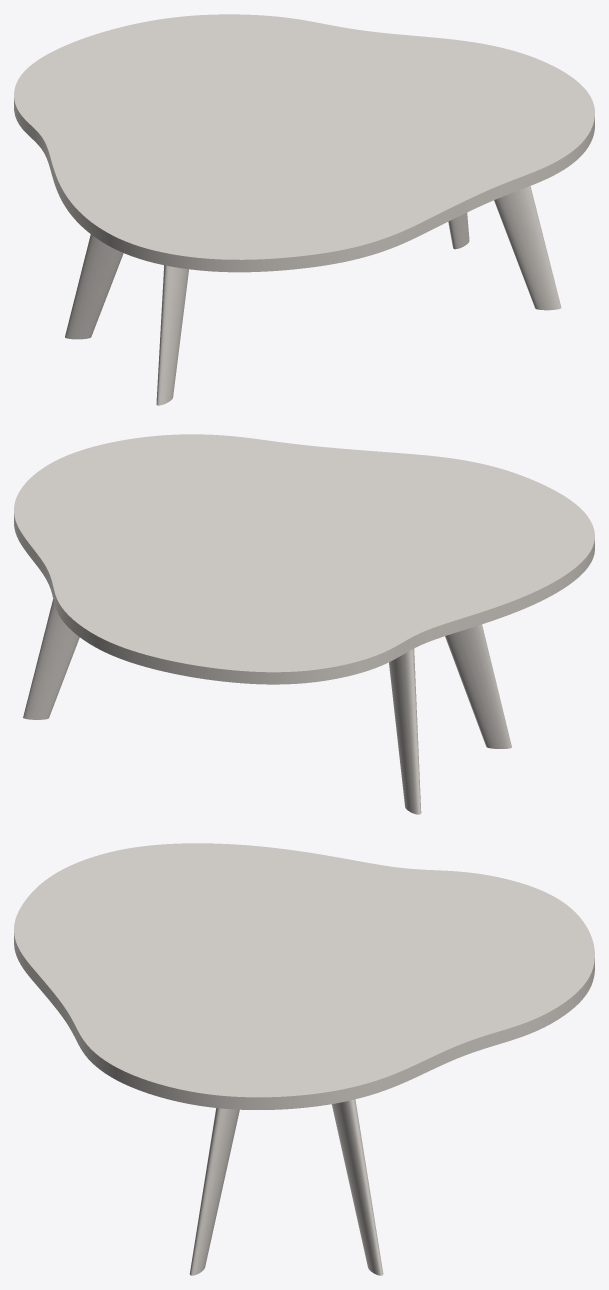
File: pearlwhite_topone_standard_ferdinantwalnut.glb
3 renders of one model, top to bottom at view 1: azimuth 30°, elevation 25°; view 2: azimuth 150°, elevation 25°; view 3: azimuth 270°, elevation 25°, orthographic. The views are drawn at different scales.
Visible parts, largest first — view 1: standard_topone, ferdinandwalnut; view 2: standard_topone, ferdinandwalnut; view 3: standard_topone, ferdinandwalnut.
Boxes of the visible parts, left/top/right/bottom form: standard_topone: left=14, top=14, right=594, bottom=272; ferdinandwalnut: left=65, top=186, right=561, bottom=405; standard_topone: left=14, top=434, right=594, bottom=684; ferdinandwalnut: left=23, top=599, right=511, bottom=814; standard_topone: left=14, top=843, right=594, bottom=1109; ferdinandwalnut: left=189, top=1099, right=383, bottom=1275.
Size of the model in its own units: 6.83 by 2.51 by 6.6.
Materials: 1 (1 with a texture image).
